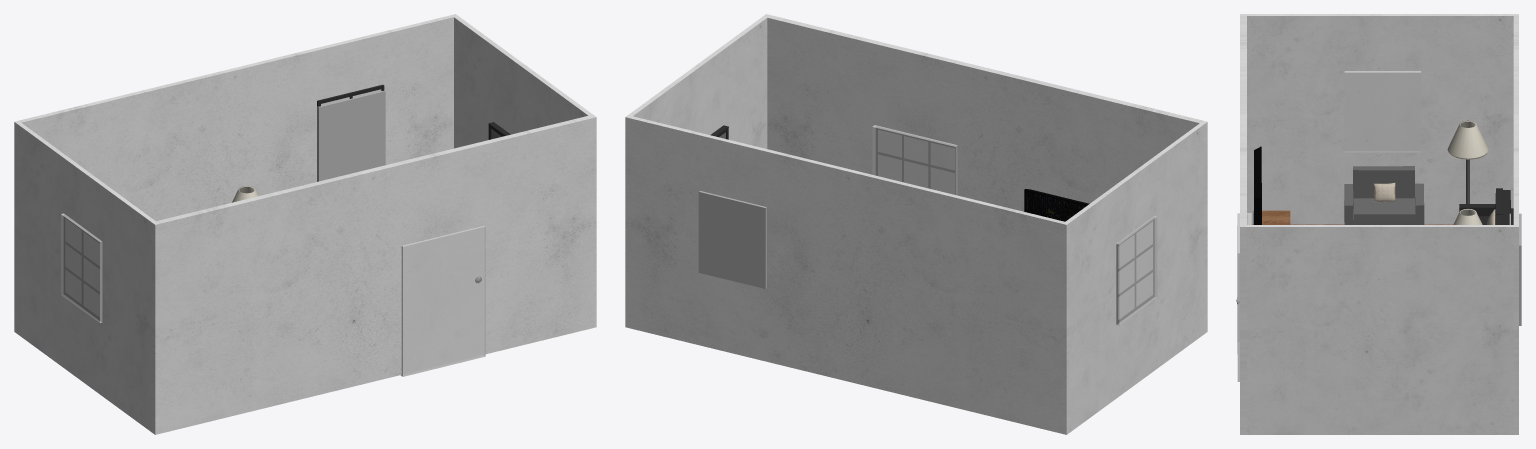
3 views of the same model, side by side, from view 1: azimuth 30°, elevation 25°; view 2: azimuth 150°, elevation 25°; view 3: azimuth 270°, elevation 25° (orthographic).
Parts seen in each view (by area): view 1: pCube326, polySurface28, pCube347, pCube344; view 2: pCube326, polySurface28, pCube347, pCube292, pCube348, pCube344; view 3: polySurface28, pCube326, pCube347, pCube307, pCube299, pCube280, pCylinder6, pCube292, pCube273, pCube272, pCube287, pCylinder11.
Part boxes in pixels (bbox=[...]): pCube326: bbox=[14, 14, 596, 434]; polySurface28: bbox=[14, 14, 596, 229]; pCube347: bbox=[61, 90, 485, 376]; pCube344: bbox=[64, 214, 101, 321]; pCube326: bbox=[625, 14, 1207, 434]; polySurface28: bbox=[625, 14, 1207, 424]; pCube347: bbox=[698, 125, 1157, 325]; pCube292: bbox=[1024, 189, 1089, 221]; pCube348: bbox=[876, 126, 957, 194]; pCube344: bbox=[1116, 217, 1154, 323]; polySurface28: bbox=[1240, 14, 1518, 434]; pCube326: bbox=[1240, 14, 1518, 434]; pCube347: bbox=[1237, 71, 1521, 381]; pCube307: bbox=[1353, 167, 1414, 204]; pCube299: bbox=[1353, 198, 1415, 221]; pCube280: bbox=[1344, 166, 1424, 224]; pCylinder6: bbox=[1447, 120, 1488, 159]; pCube292: bbox=[1254, 146, 1261, 224]; pCube273: bbox=[1459, 190, 1510, 224]; pCube272: bbox=[1253, 210, 1290, 224]; pCube287: bbox=[1373, 182, 1395, 202]; pCylinder11: bbox=[1453, 208, 1482, 224].
Size of the model in its own units: 37.04 by 17.01 by 20.82.
Materials: 25 (9 with a texture image).
